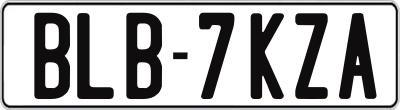7: (198, 11, 237, 101)
A: (338, 12, 377, 99)
B: (125, 11, 167, 103), (33, 11, 75, 102)
K: (248, 12, 285, 102)
L: (76, 10, 117, 99)
Z: (293, 12, 330, 101)
